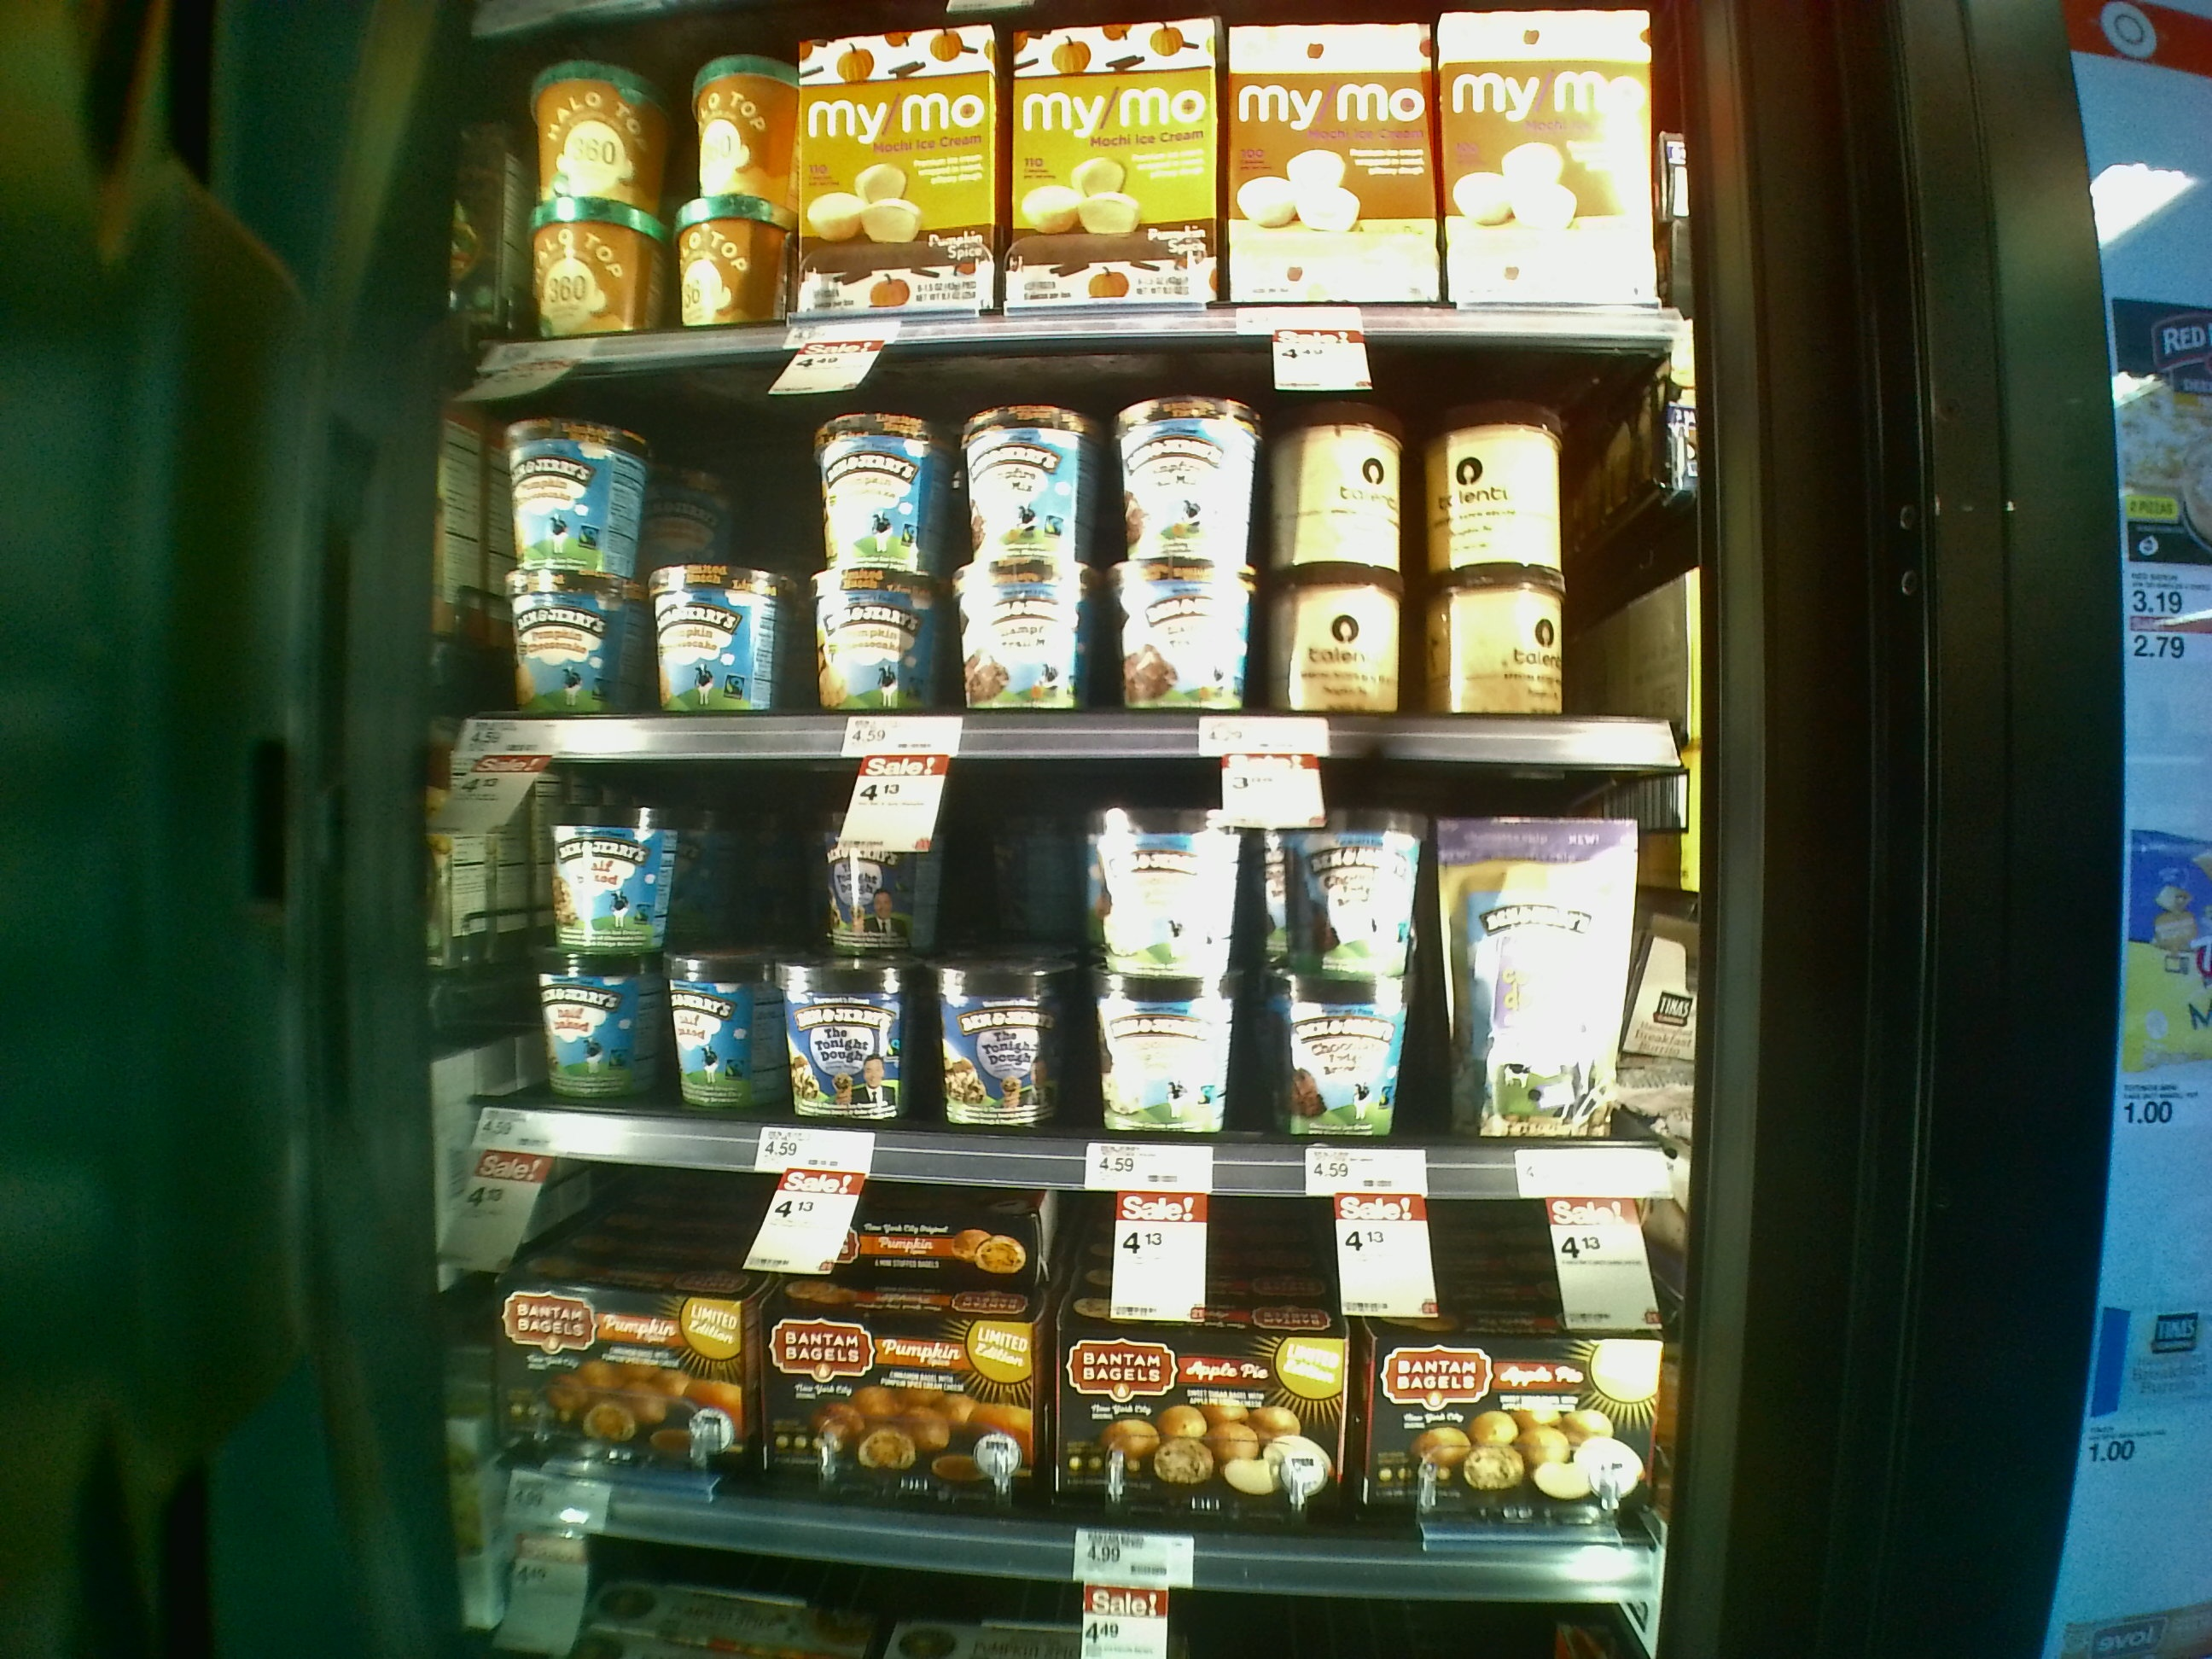shelf: (441, 699, 1693, 1197), (465, 1094, 1658, 1601), (460, 315, 1689, 758)
